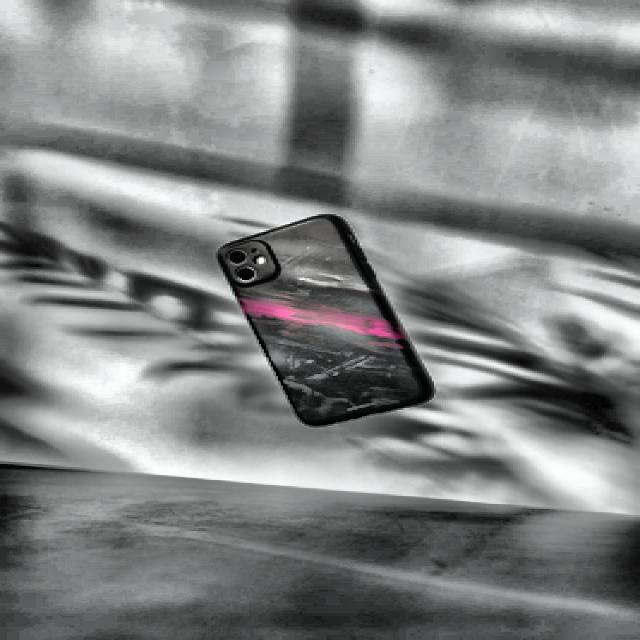Phone: (216, 212, 434, 426)
